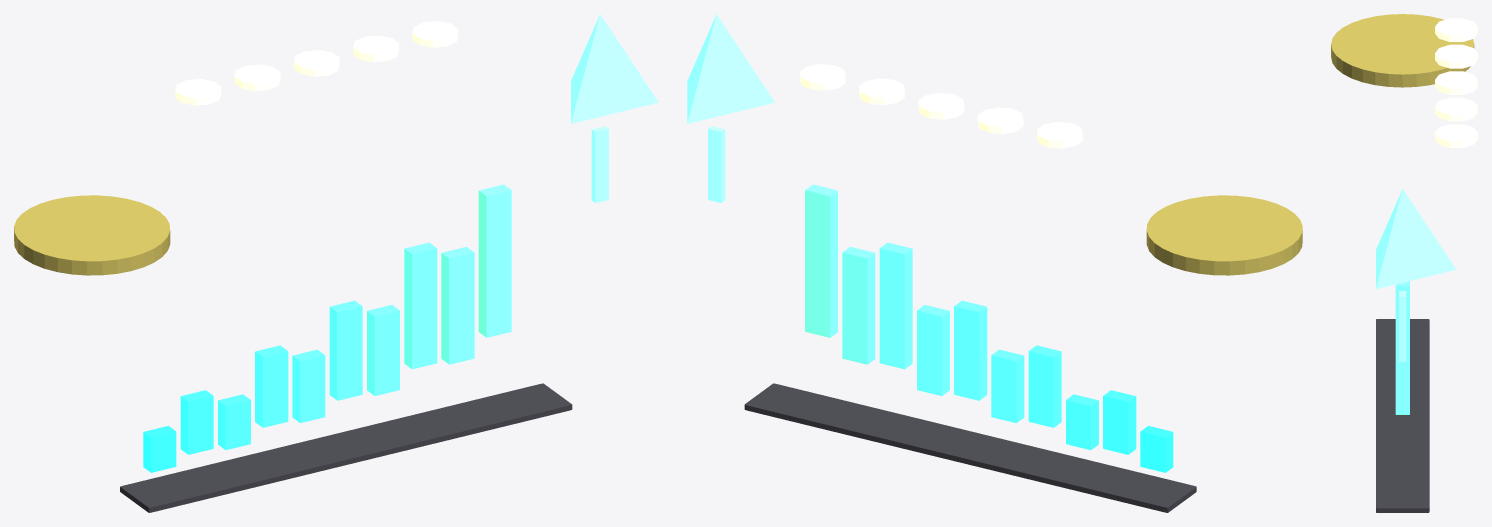
File: growth-sales.glb
3 renders of one model, left to right at view 1: azimuth 30°, elevation 25°; view 2: azimuth 150°, elevation 25°; view 3: azimuth 270°, elevation 25°, orthographic. The views are drawn at different scales.
Visible parts, largest first — view 1: Base_Platform, ZAR_Coin, Growth_Arrow, Growth_Bar_9, Growth_Bar_7, Growth_Bar_8, Growth_Bar_5, Growth_Bar_6, Growth_Bar_3, Growth_Bar_4, Growth_Bar_1, Growth_Bar_2 (+7 smaller); view 2: Base_Platform, ZAR_Coin, Growth_Arrow, Growth_Bar_9, Growth_Bar_7, Growth_Bar_8, Growth_Bar_5, Growth_Bar_6, Growth_Bar_3, Growth_Bar_4, Growth_Bar_1, Growth_Bar_2 (+7 smaller); view 3: Base_Platform, ZAR_Coin, Growth_Arrow, Growth_Bar_9, Gold_Star_3, Gold_Star_1, Gold_Star_0, Gold_Star_2, Gold_Star_4, Arrow_Shaft.
Part boxes in pixels (bbox=[...]): Base_Platform: bbox=[120, 383, 572, 512]; ZAR_Coin: bbox=[14, 195, 170, 275]; Growth_Arrow: bbox=[571, 14, 658, 123]; Growth_Bar_9: bbox=[478, 184, 511, 337]; Growth_Bar_7: bbox=[404, 242, 437, 369]; Growth_Bar_8: bbox=[441, 246, 474, 364]; Growth_Bar_5: bbox=[329, 300, 362, 400]; Growth_Bar_6: bbox=[367, 305, 399, 395]; Growth_Bar_3: bbox=[255, 345, 288, 427]; Growth_Bar_4: bbox=[292, 349, 325, 422]; Growth_Bar_1: bbox=[180, 390, 213, 454]; Growth_Bar_2: bbox=[218, 394, 250, 449]; Base_Platform: bbox=[744, 383, 1196, 512]; ZAR_Coin: bbox=[1146, 195, 1302, 275]; Growth_Arrow: bbox=[687, 14, 774, 123]; Growth_Bar_9: bbox=[805, 184, 837, 337]; Growth_Bar_7: bbox=[879, 242, 912, 369]; Growth_Bar_8: bbox=[842, 246, 875, 364]; Growth_Bar_5: bbox=[954, 300, 987, 400]; Growth_Bar_6: bbox=[917, 305, 949, 395]; Growth_Bar_3: bbox=[1028, 345, 1061, 427]; Growth_Bar_4: bbox=[991, 349, 1024, 423]; Growth_Bar_1: bbox=[1103, 390, 1136, 454]; Growth_Bar_2: bbox=[1066, 394, 1098, 450]; Base_Platform: bbox=[1376, 319, 1429, 512]; ZAR_Coin: bbox=[1331, 14, 1474, 87]; Growth_Arrow: bbox=[1376, 189, 1456, 289]; Growth_Bar_9: bbox=[1395, 281, 1409, 414]; Gold_Star_3: bbox=[1435, 97, 1477, 121]; Gold_Star_1: bbox=[1435, 44, 1477, 68]; Gold_Star_0: bbox=[1435, 18, 1477, 41]; Gold_Star_2: bbox=[1435, 71, 1477, 94]; Gold_Star_4: bbox=[1435, 124, 1477, 147]; Arrow_Shaft: bbox=[1399, 291, 1406, 361].
Bounding box in the file's own units: 3.66 × 2.11 × 0.82.
